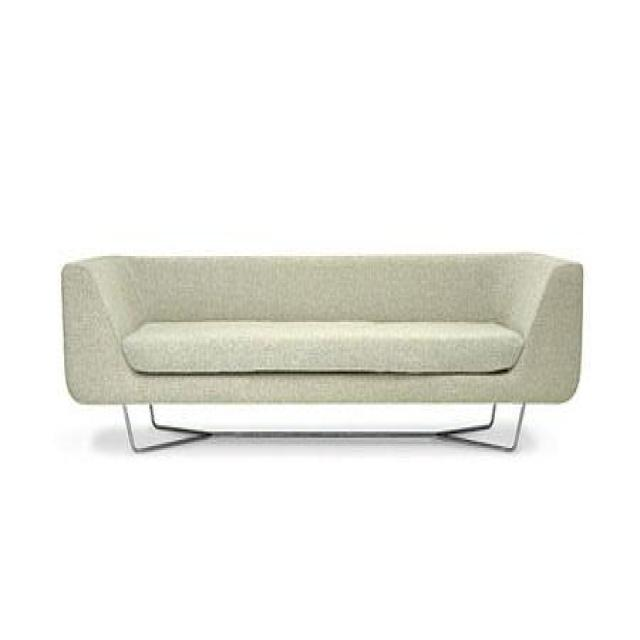sofa: (60, 248, 583, 454)
